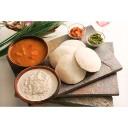idly: (56, 57, 86, 83), (74, 47, 102, 70), (50, 46, 74, 67), (60, 40, 86, 51)
